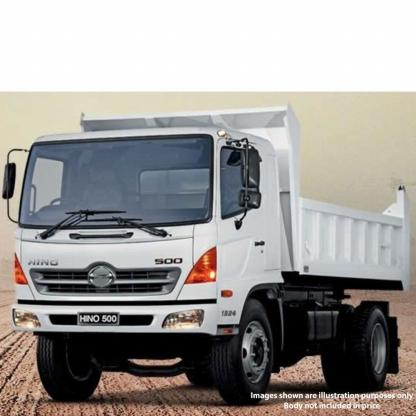dump_truck: (9, 94, 416, 412)
